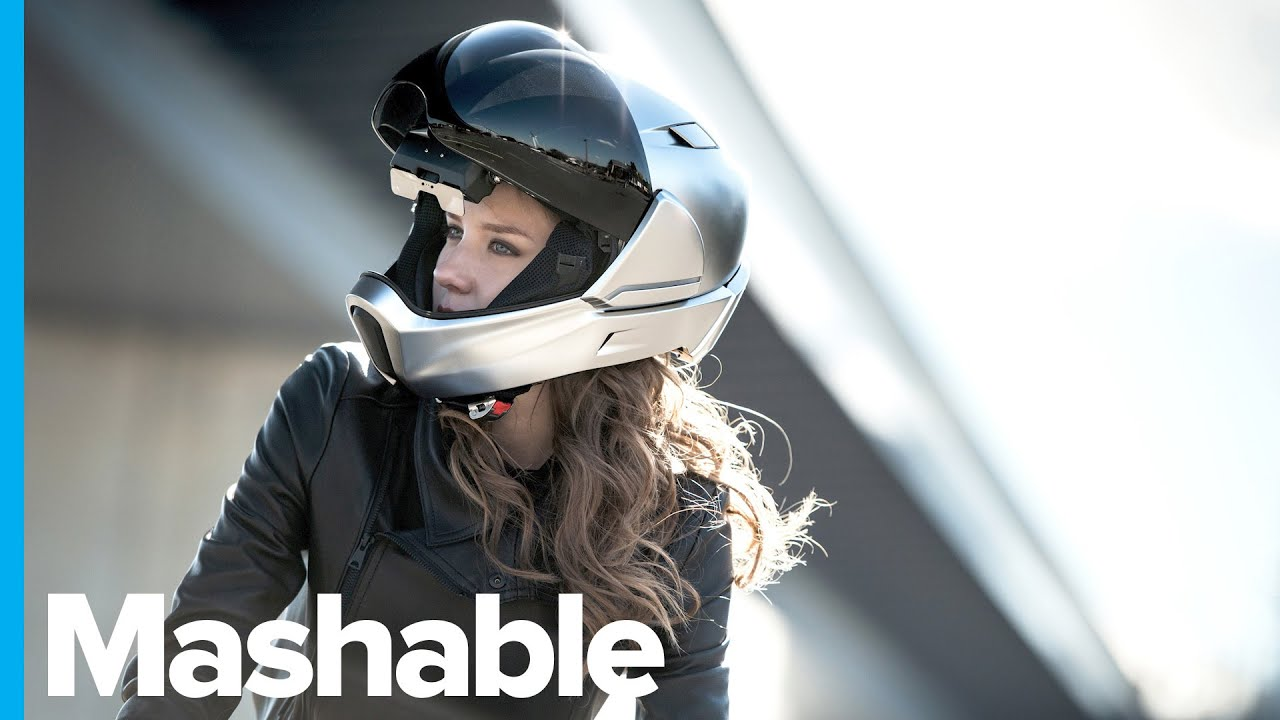with_helmet: (340, 13, 752, 405)
